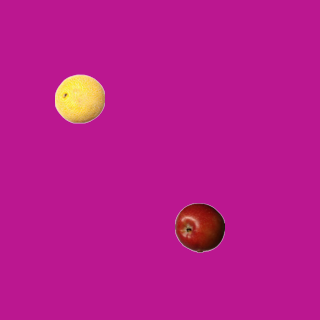Apple Braeburn: (174, 202, 224, 252)
Cantaloupe 1: (54, 73, 104, 123)
